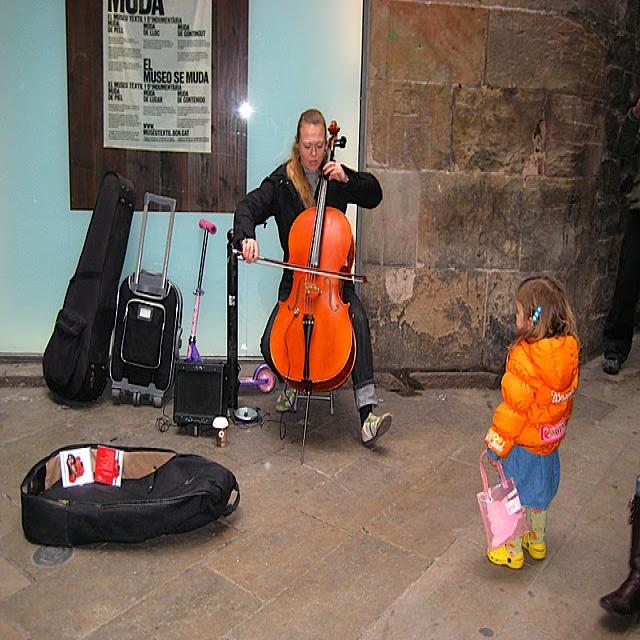cello: (268, 118, 359, 395)
